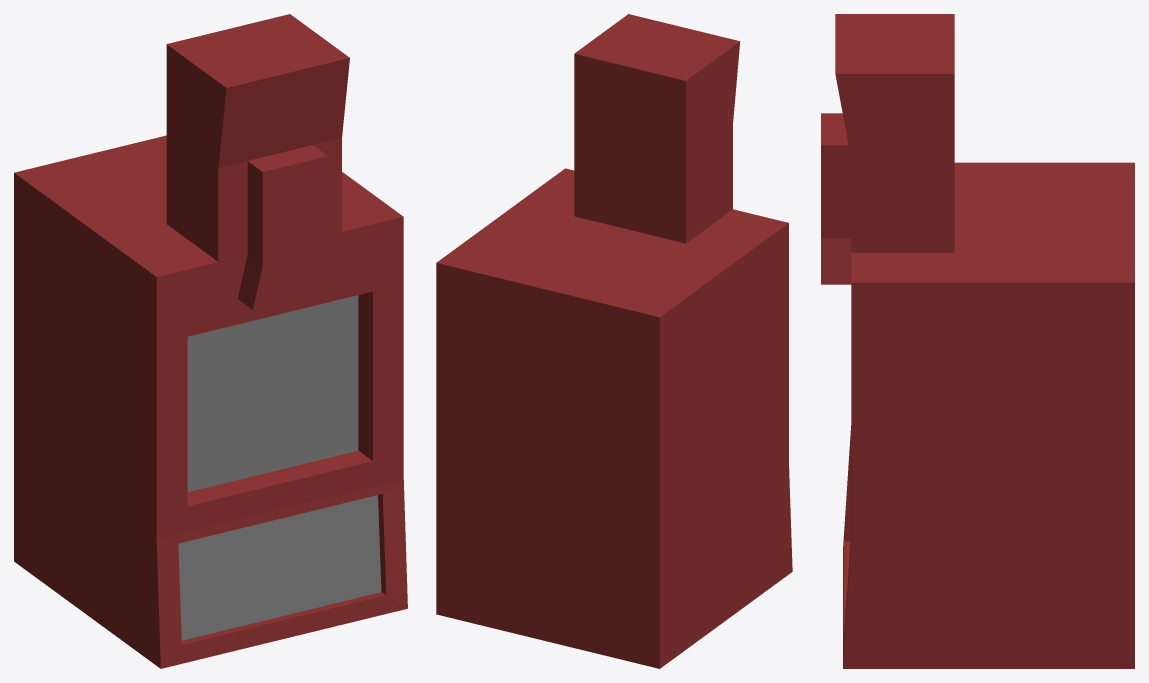
The model's file is Red News.fbx.
The picture shows the model from 3 angles, left to right: view 1: azimuth 30°, elevation 25°; view 2: azimuth 150°, elevation 25°; view 3: azimuth 270°, elevation 25°; orthographic projection. The views are drawn at different scales.
Visible parts, largest first — view 1: News_Box_1___Copy_pCube4; view 2: News_Box_1___Copy_pCube4; view 3: News_Box_1___Copy_pCube4.
Part boxes in pixels (bbox=[...]): News_Box_1___Copy_pCube4: bbox=[14, 14, 407, 668]; News_Box_1___Copy_pCube4: bbox=[436, 14, 792, 668]; News_Box_1___Copy_pCube4: bbox=[821, 14, 1134, 668].
Size of the model in its own units: 0.6168 by 1.36 by 0.6824.
